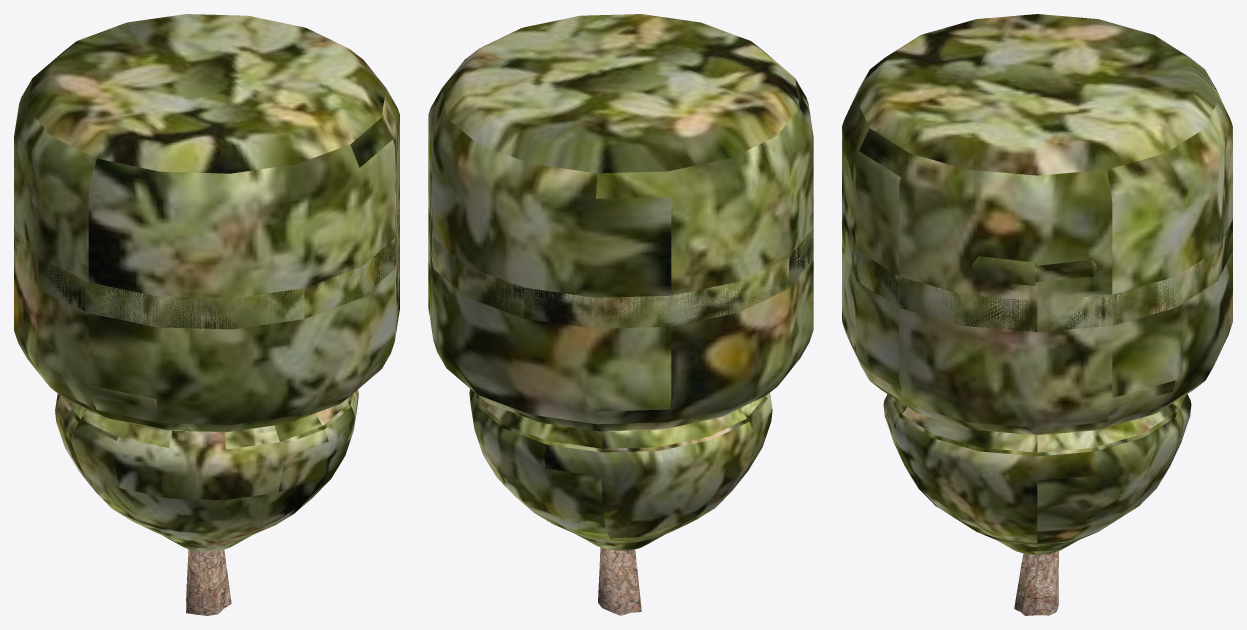
The model's file is maingate.fbx.
3 renders of one model, left to right at view 1: azimuth 30°, elevation 25°; view 2: azimuth 150°, elevation 25°; view 3: azimuth 270°, elevation 25°, orthographic.
Visible parts, largest first — view 1: bush3, bush0, bush1; view 2: bush3, bush0, bush1; view 3: bush3, bush0, bush1, bush2.
Boxes of the visible parts, x1,y1,x2,y2 form: bush3: [14, 14, 399, 615]; bush0: [55, 390, 358, 551]; bush1: [14, 209, 399, 329]; bush3: [428, 14, 813, 615]; bush0: [469, 389, 772, 550]; bush1: [428, 206, 813, 328]; bush3: [842, 14, 1232, 615]; bush0: [883, 394, 1191, 554]; bush1: [842, 219, 1232, 331]; bush2: [972, 256, 1096, 285].
Size of the model in its own units: 201 by 300 by 200.
